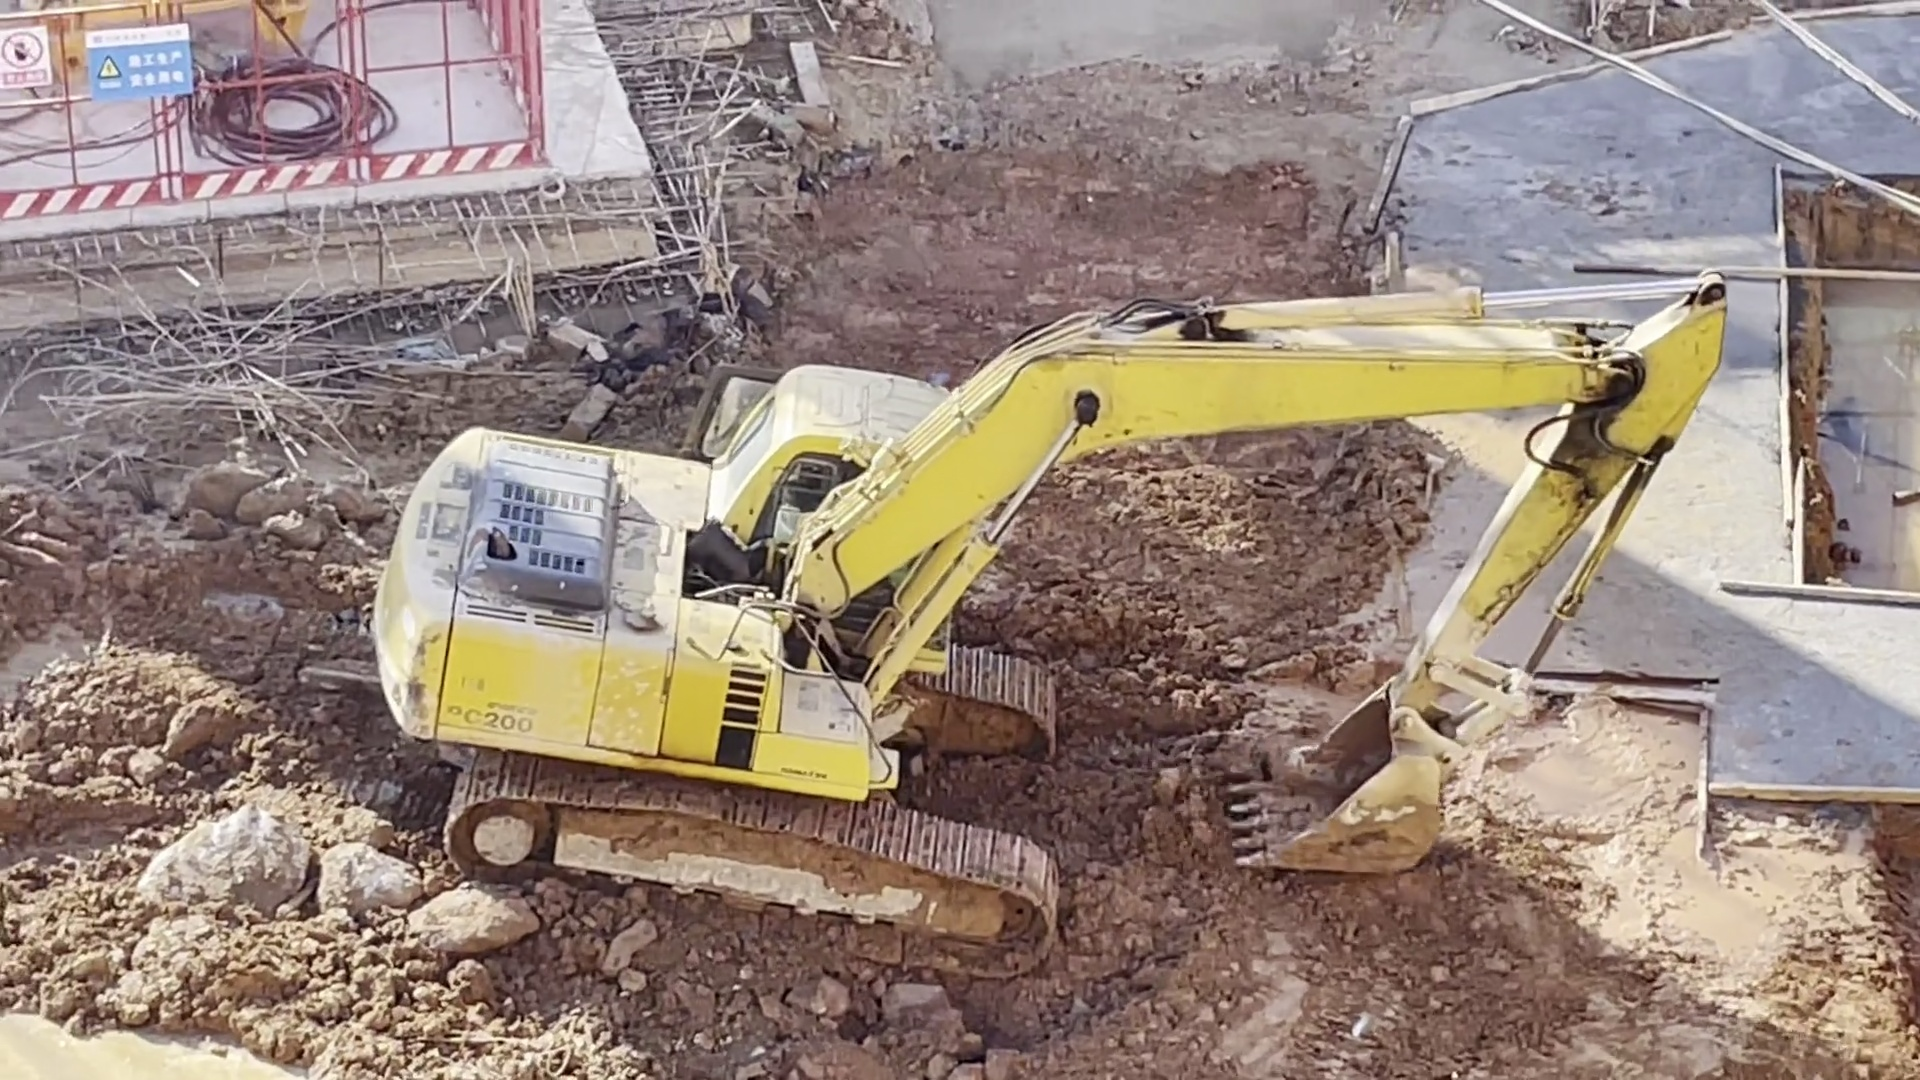slogan: (79, 22, 204, 104)
